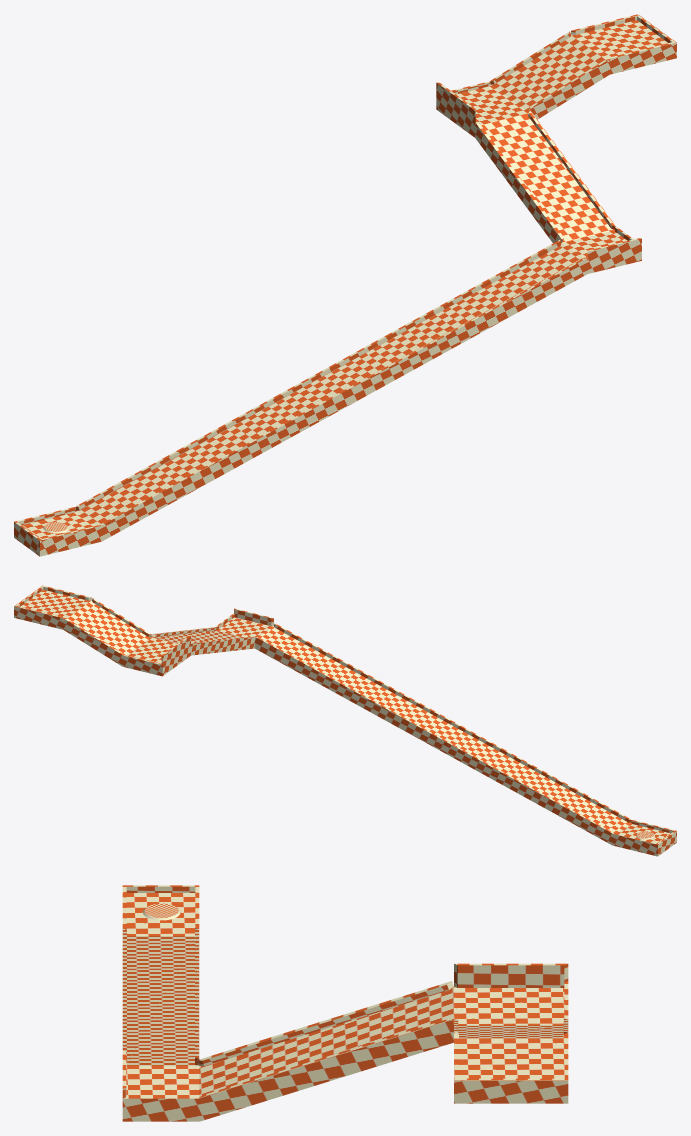
The model's file is level.obj.
3 renders of one model, top to bottom at view 1: azimuth 30°, elevation 25°; view 2: azimuth 150°, elevation 25°; view 3: azimuth 270°, elevation 25°, orthographic. The views are drawn at different scales.
Parts seen in each view (by area): view 1: Cube.001; view 2: Cube.001; view 3: Cube.001.
Part boxes in pixels (x1,y1,x2,y2): Cube.001: [14, 14, 676, 556]; Cube.001: [14, 585, 676, 856]; Cube.001: [122, 885, 568, 1121].
Bounding box in the file's own units: 134 × 42.51 × 46.83.
